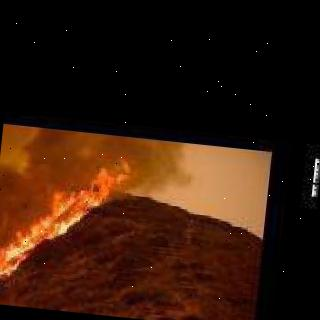fire: (0, 145, 136, 316)
